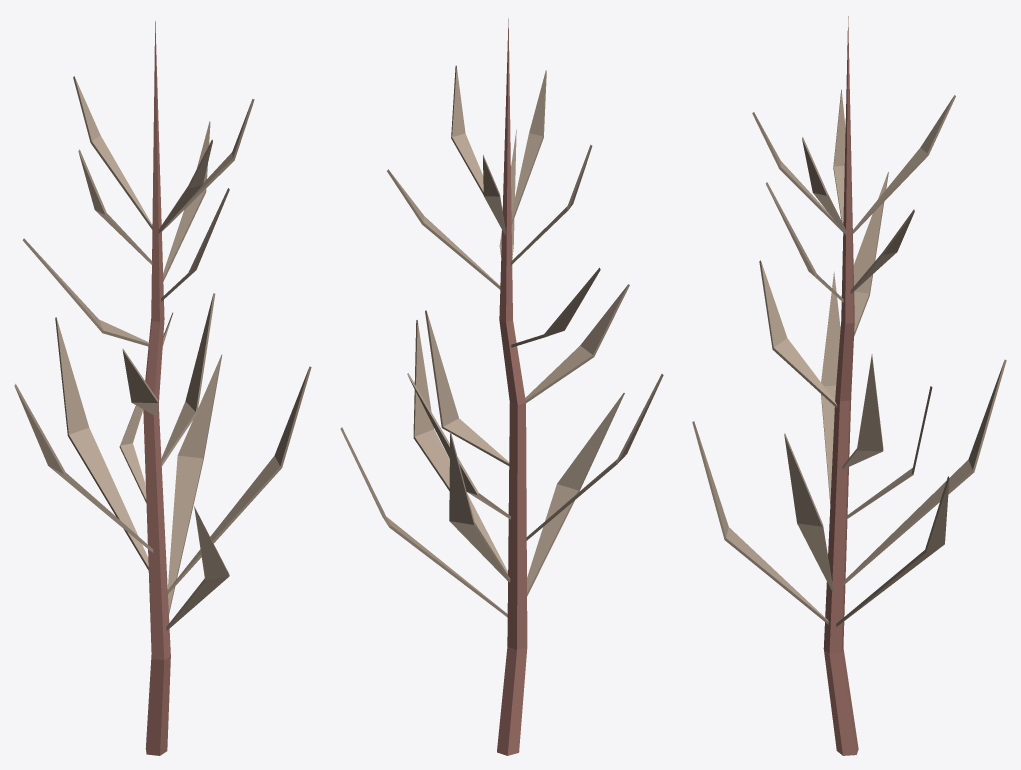
Rendered from plant_2.glb.
3 views of the same model, side by side, from view 1: azimuth 30°, elevation 25°; view 2: azimuth 150°, elevation 25°; view 3: azimuth 270°, elevation 25° (orthographic).
Parts seen in each view (by area): view 1: Plant_2; view 2: Plant_2; view 3: Plant_2.
Boxes of the visible parts, left/top/right/bottom form: Plant_2: left=14, top=21, right=311, bottom=755; Plant_2: left=340, top=18, right=663, bottom=755; Plant_2: left=692, top=16, right=1006, bottom=755.
Bounding box in the file's own units: 0.6859 × 1.77 × 0.6859.
